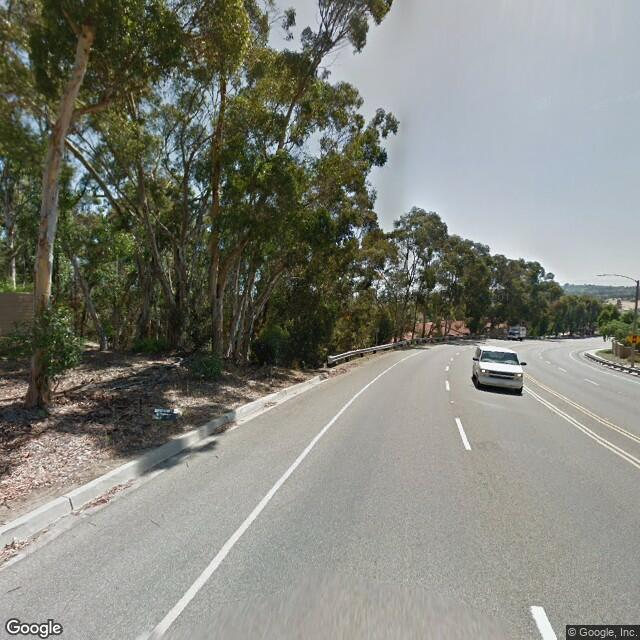litter: (152, 406, 184, 421)
